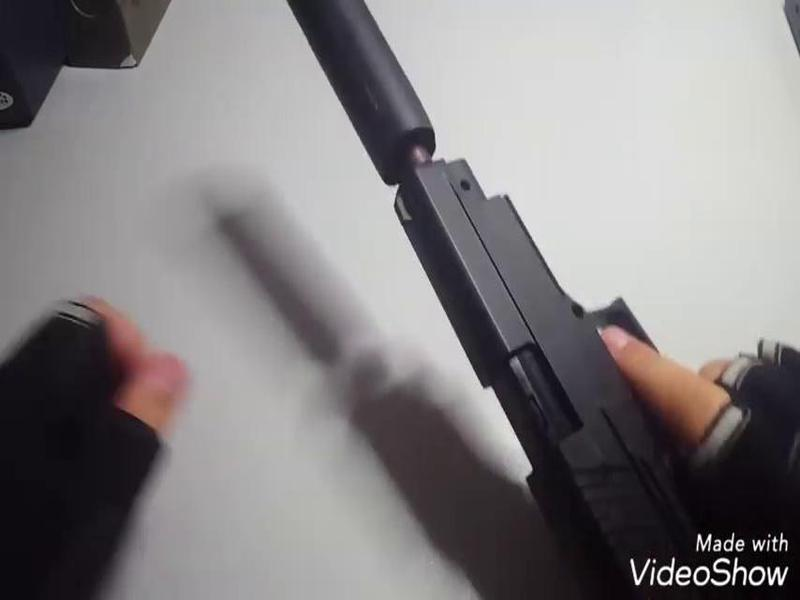Pistola: (393, 145, 722, 531)
